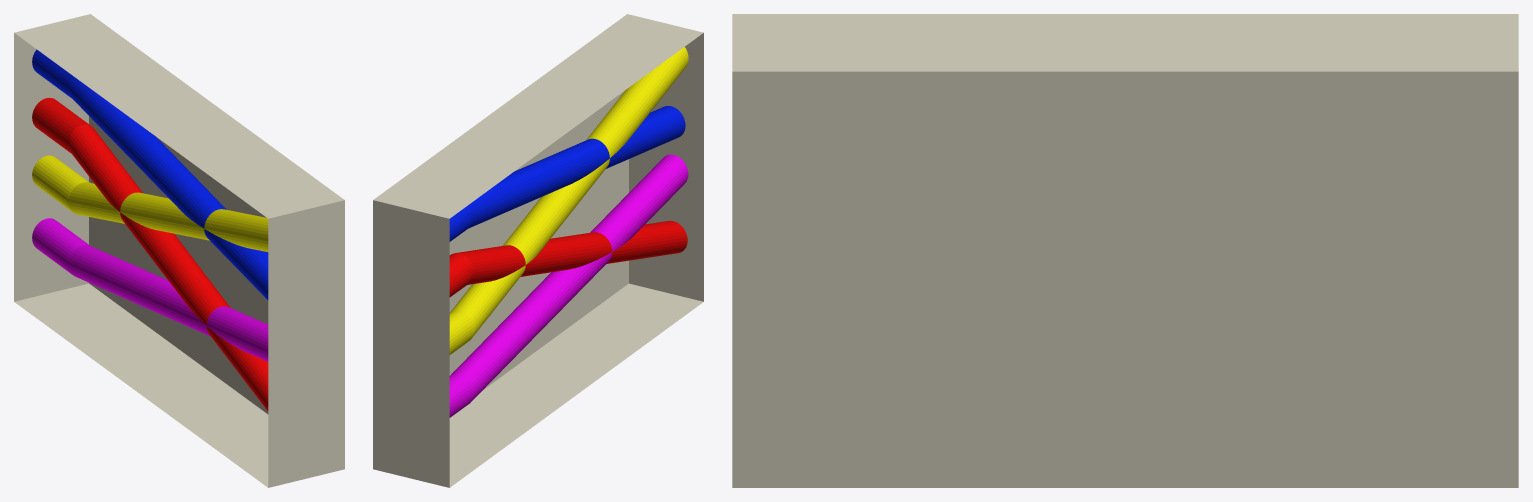
The model's file is WireBox.fbx.
3 renders of one model, left to right at view 1: azimuth 30°, elevation 25°; view 2: azimuth 150°, elevation 25°; view 3: azimuth 270°, elevation 25°, orthographic. The views are drawn at different scales.
Visible parts, largest first — view 1: Cube.001; view 2: Cube.001; view 3: Cube.001.
Part boxes in pixels (x1=…): Cube.001: x1=14, y1=14, x2=344, y2=487; Cube.001: x1=373, y1=14, x2=703, y2=487; Cube.001: x1=732, y1=14, x2=1518, y2=487.
Size of the model in its own units: 17.78 by 59.69 by 102.
